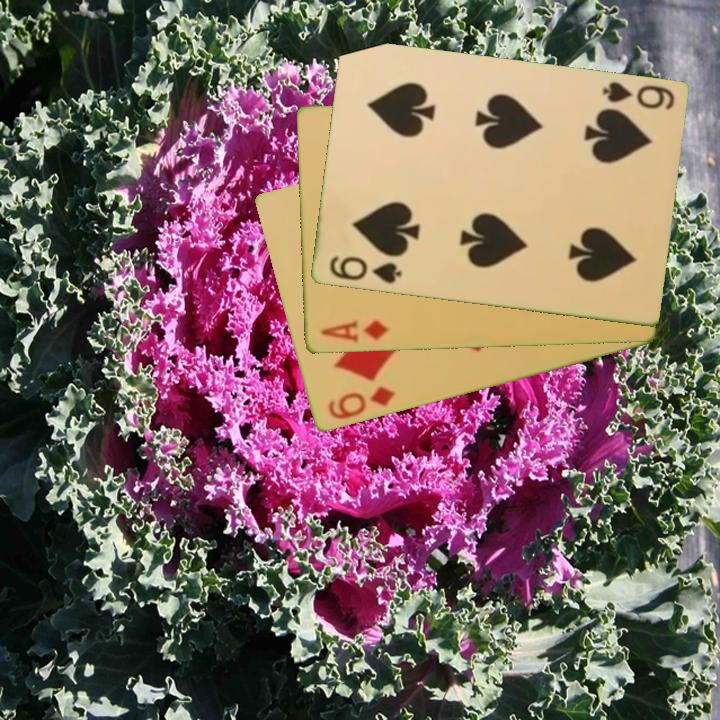6d: (324, 383, 399, 423)
6s: (325, 252, 404, 287), (599, 78, 677, 113)
Ad: (317, 316, 392, 346)
